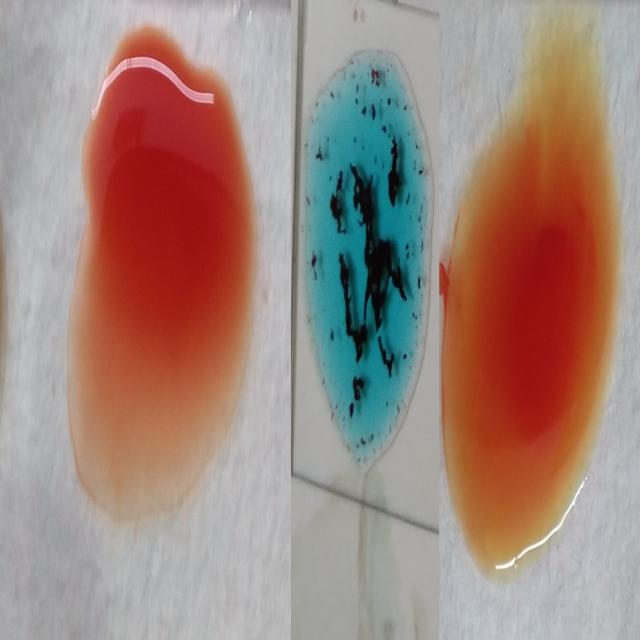A: (306, 42, 424, 464)
